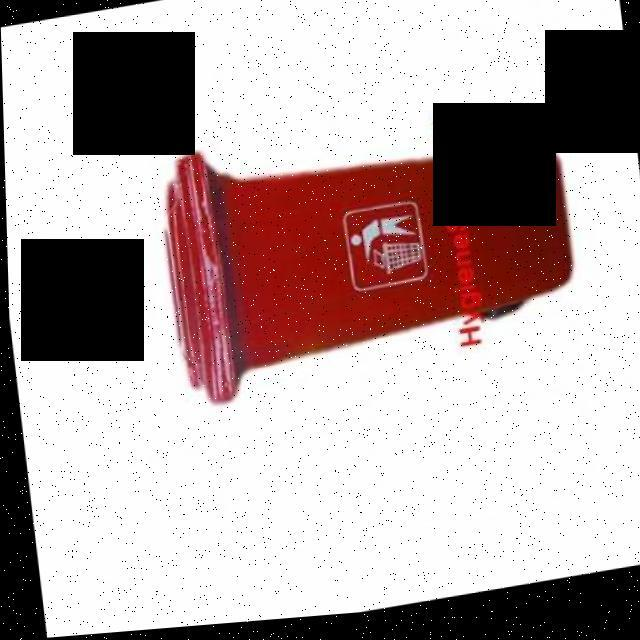bin: (109, 4, 640, 433)
